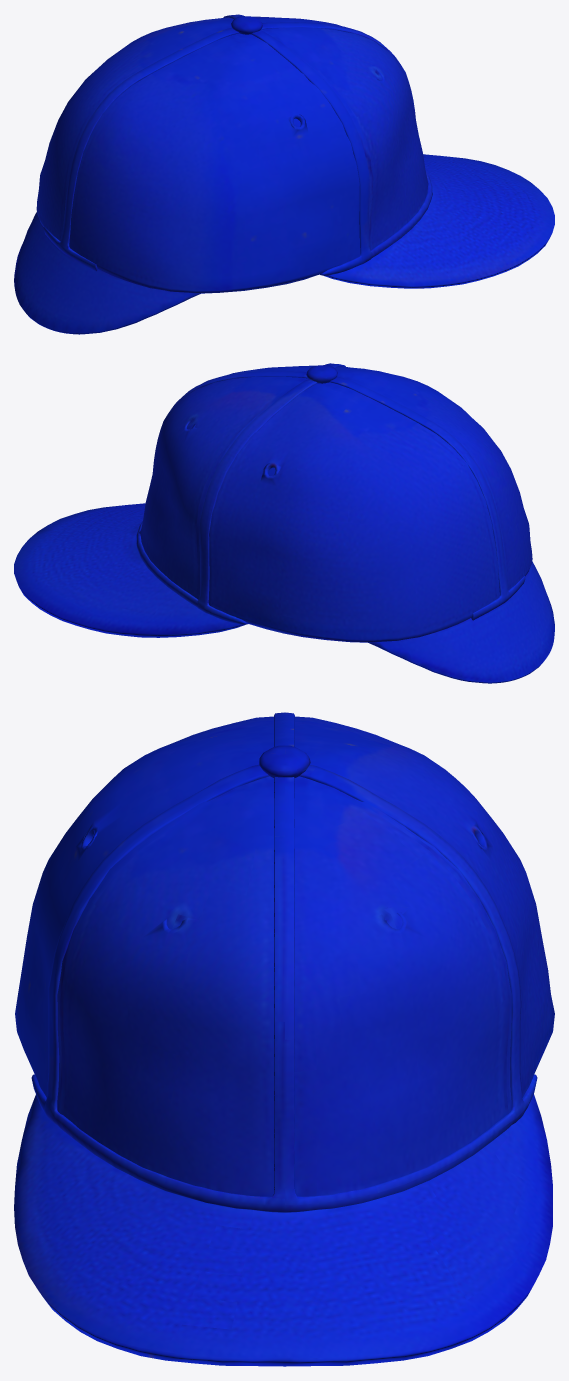
Rendered from bone_azul.glb.
3 views of the same model, one above another, from view 1: azimuth 30°, elevation 25°; view 2: azimuth 150°, elevation 25°; view 3: azimuth 270°, elevation 25° (orthographic). The views are drawn at different scales.
Parts seen in each view (by area): view 1: bone_azul; view 2: bone_azul; view 3: bone_azul.
Boxes of the visible parts, x1,y1,x2,y2 form: bone_azul: [14, 14, 554, 334]; bone_azul: [14, 363, 554, 683]; bone_azul: [14, 712, 554, 1366].
Bounding box in the file's own units: 0.4624 × 0.2227 × 0.2671.
Materials: 1 (1 with a texture image).
